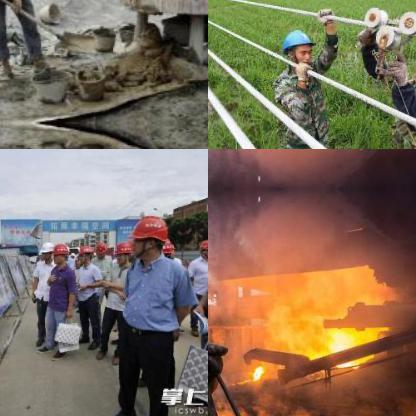Helmet: (128, 214, 166, 256), (279, 26, 313, 64), (112, 238, 130, 262), (158, 235, 172, 257), (76, 244, 92, 262), (51, 242, 65, 262), (38, 240, 52, 260), (93, 239, 107, 257), (198, 236, 207, 258)
